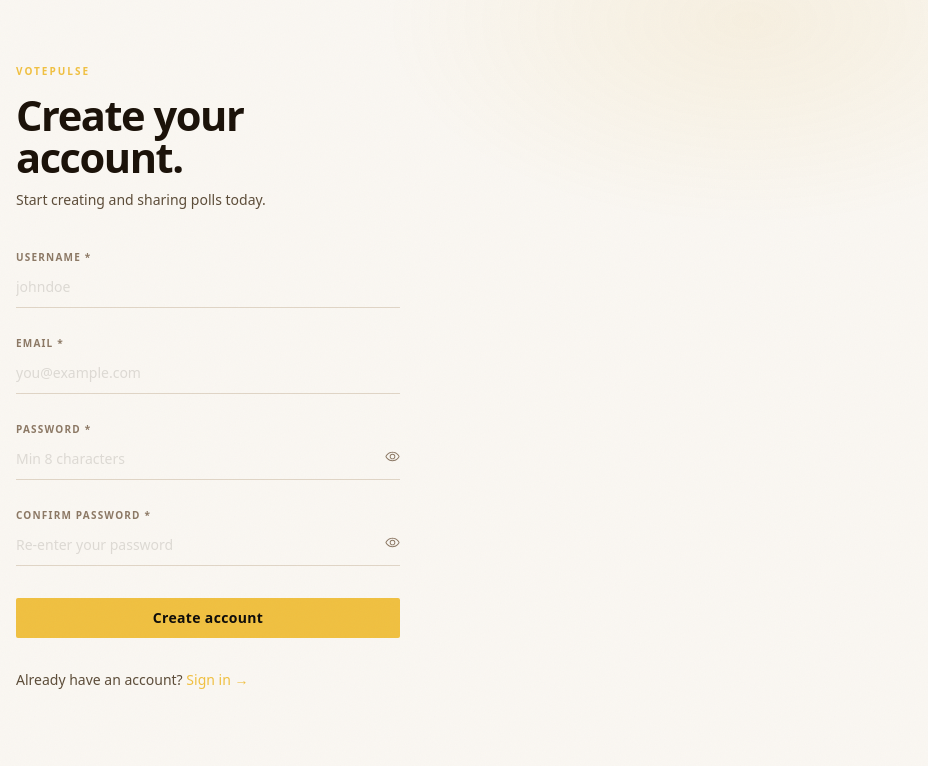
Test: Register Page › shows root error on 409 conflict
The image size is (928, 766).
Type "existing" into the field with placeholder "johndoe".
click(208, 291); type("existing")  # box [16,273,400,308]
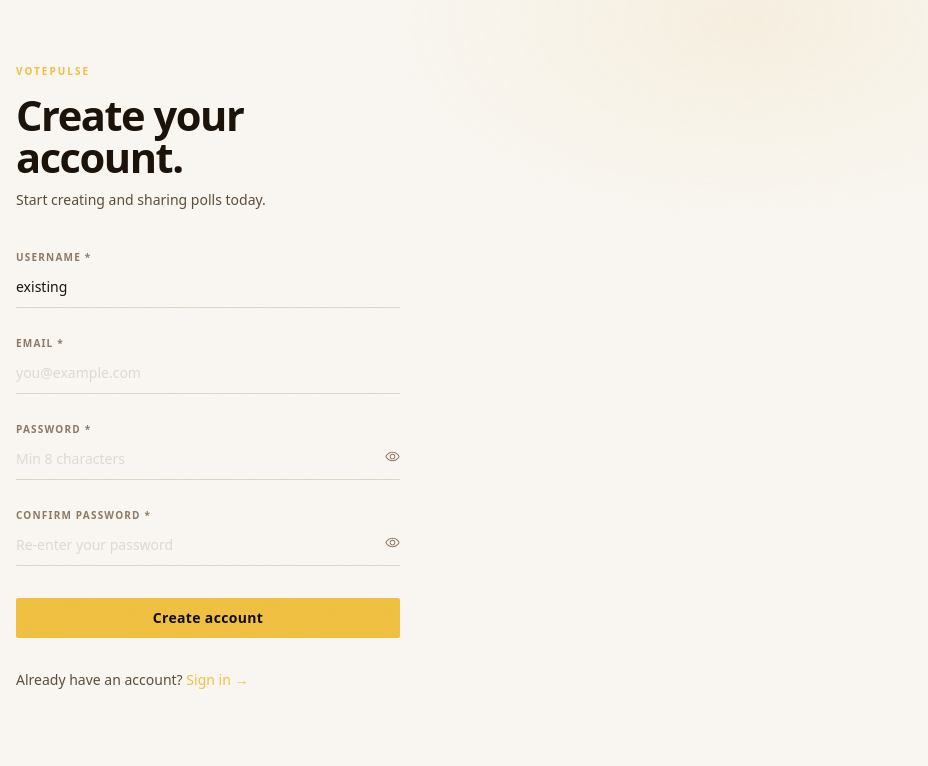
Type "dup@test.com" into the field with placeholder "you@example.com".
click(208, 377); type("dup@test.com")  # box [16,359,400,394]
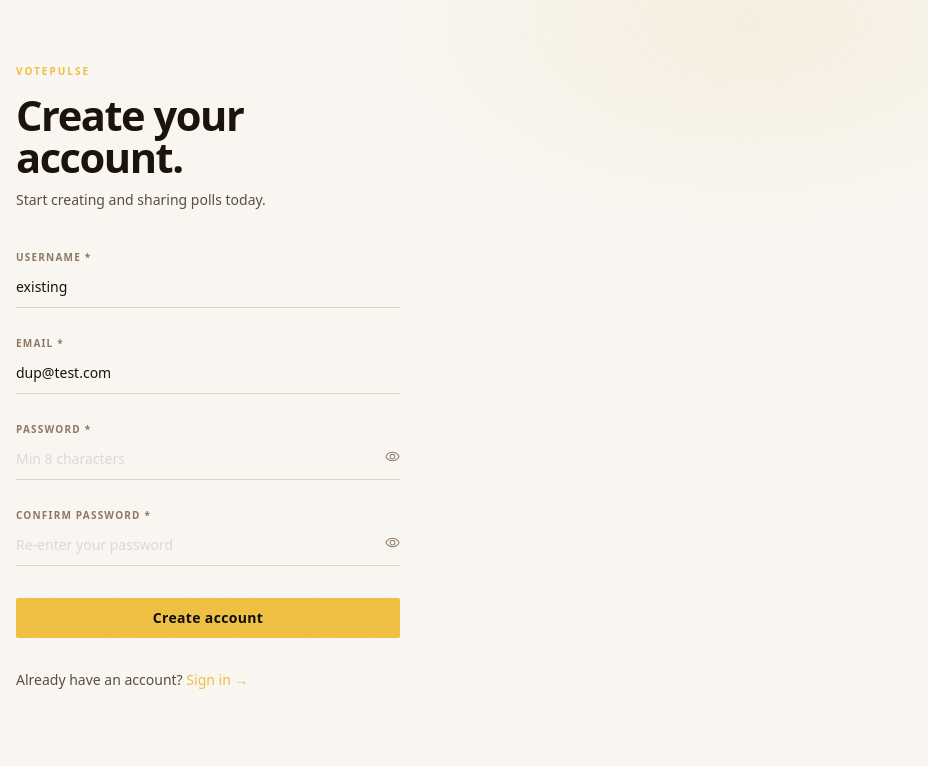
Type "password123" into the password field with placeholder "Min 8 characters".
click(208, 463); type("password123")  # box [16,445,400,480]
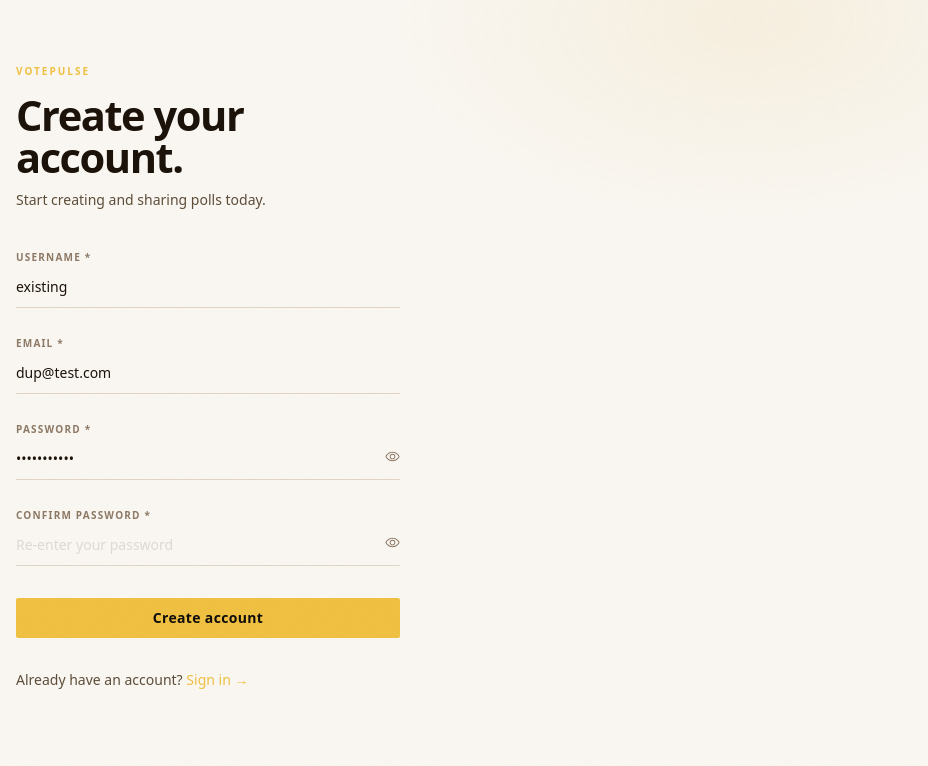
Type "password123" into the password field with placeholder "Re-enter your password".
click(208, 549); type("password123")  # box [16,531,400,566]
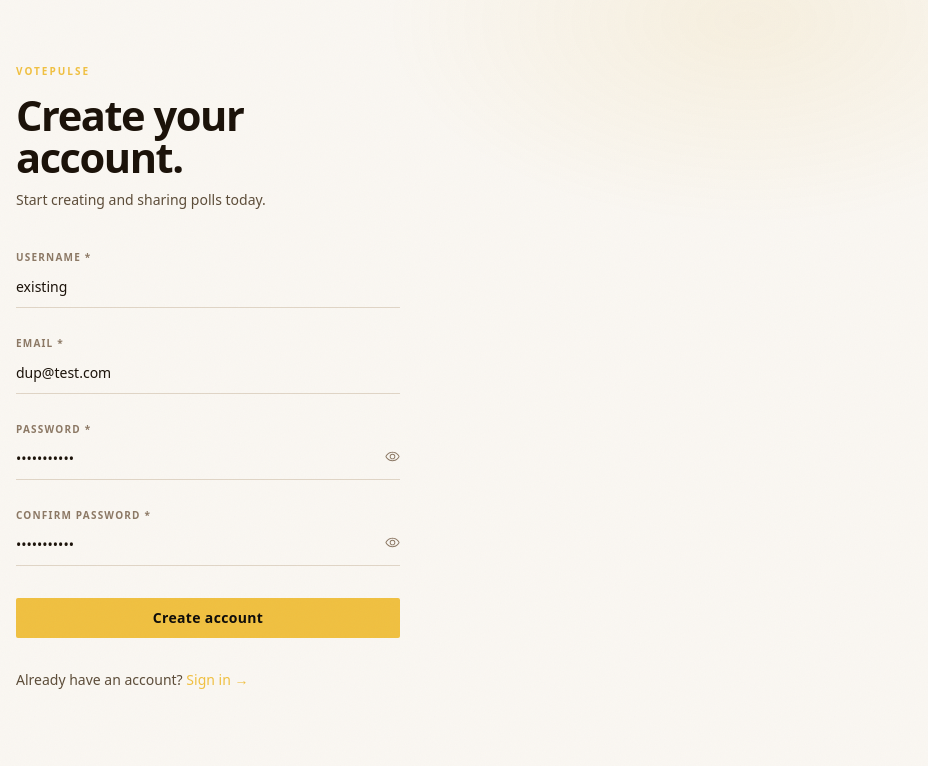
Click the button "Create account".
click(208, 618)  # box [16,598,400,638]
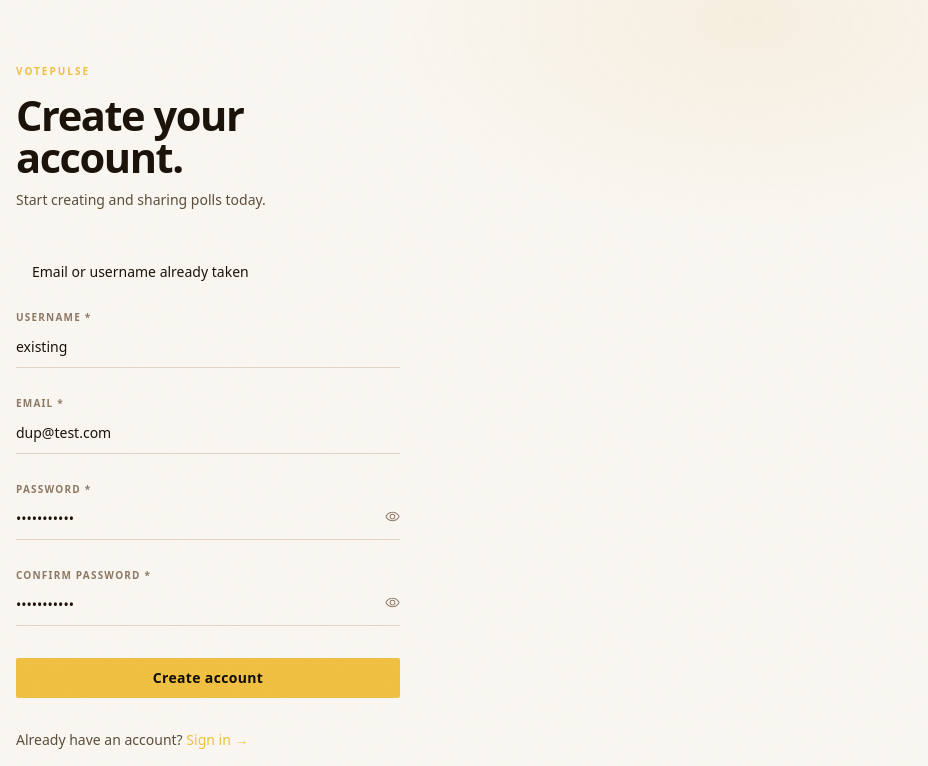
Now the text "Email or username already taken" is shown, box [32,262,249,281]
